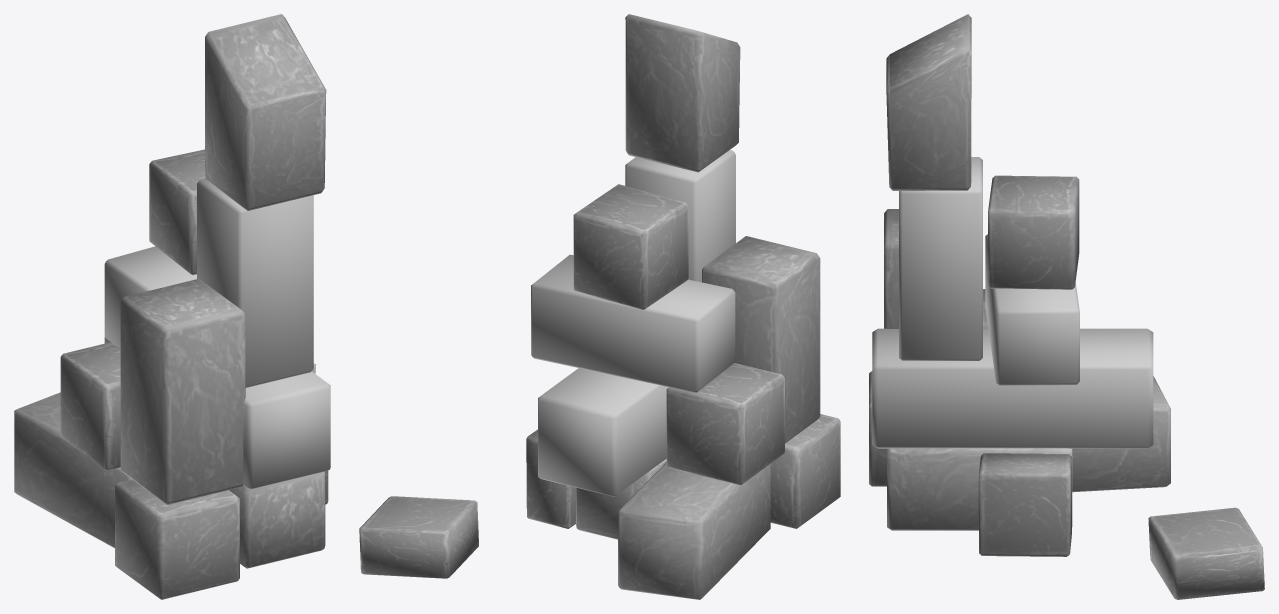
The model's file is Camara_Side_1.fbx.
The picture shows the model from 3 angles, left to right: view 1: azimuth 30°, elevation 25°; view 2: azimuth 150°, elevation 25°; view 3: azimuth 270°, elevation 25°; orthographic projection. The views are drawn at different scales.
Parts seen in each view (by area): view 1: Brick#2.010, Brick#2.008, Brick#1.014, Brick#3.014, Brick#2.011, Brick#1.009, Door2, Brick#3.015, Brick#3.016, Brick#1.015; view 2: Brick#1.015, Brick#2.011, Brick#2.008, Brick#2.010, Brick#1.009, Brick#3.016, Brick#3.015, Brick#3.017, Brick#1.014, Brick#3.014, Brick#3.018, Door2; view 3: Brick#1.009, Brick#1.014, Brick#2.008, Brick#3.016, Brick#3.018, Brick#1.015, Brick#3.017, Door2, Brick#2.011, Brick#2.010, Brick#3.014.
Part boxes in pixels (<box>): Brick#2.010: <box>120,278,245,504</box>; Brick#2.008: <box>205,14,326,210</box>; Brick#1.014: <box>197,178,313,387</box>; Brick#3.014: <box>115,479,239,599</box>; Brick#2.011: <box>14,392,131,548</box>; Brick#1.009: <box>104,337,330,489</box>; Door2: <box>229,471,325,568</box>; Brick#3.015: <box>60,342,120,470</box>; Brick#3.016: <box>149,149,205,274</box>; Brick#1.015: <box>104,246,196,347</box>; Brick#1.015: <box>531,254,735,392</box>; Brick#2.011: <box>618,462,770,599</box>; Brick#2.008: <box>625,14,740,172</box>; Brick#2.010: <box>702,236,820,443</box>; Brick#1.009: <box>538,368,668,496</box>; Brick#3.016: <box>573,184,688,309</box>; Brick#3.015: <box>666,363,784,485</box>; Brick#3.017: <box>359,496,478,578</box>; Brick#1.014: <box>625,150,735,282</box>; Brick#3.014: <box>770,414,840,528</box>; Brick#3.018: <box>526,429,575,528</box>; Door2: <box>576,459,666,539</box>; Brick#1.009: <box>872,328,1153,448</box>; Brick#1.014: <box>899,157,982,360</box>; Brick#2.008: <box>886,14,971,190</box>; Brick#3.016: <box>988,175,1079,289</box>; Brick#3.018: <box>978,453,1071,556</box>; Brick#1.015: <box>985,234,1079,385</box>; Brick#3.017: <box>1148,507,1264,599</box>; Door2: <box>887,448,1072,530</box>; Brick#2.011: <box>1072,376,1170,492</box>; Brick#2.010: <box>884,209,898,328</box>; Brick#3.014: <box>869,371,886,486</box>.
Size of the model in its own units: 753 by 1162 by 855.
